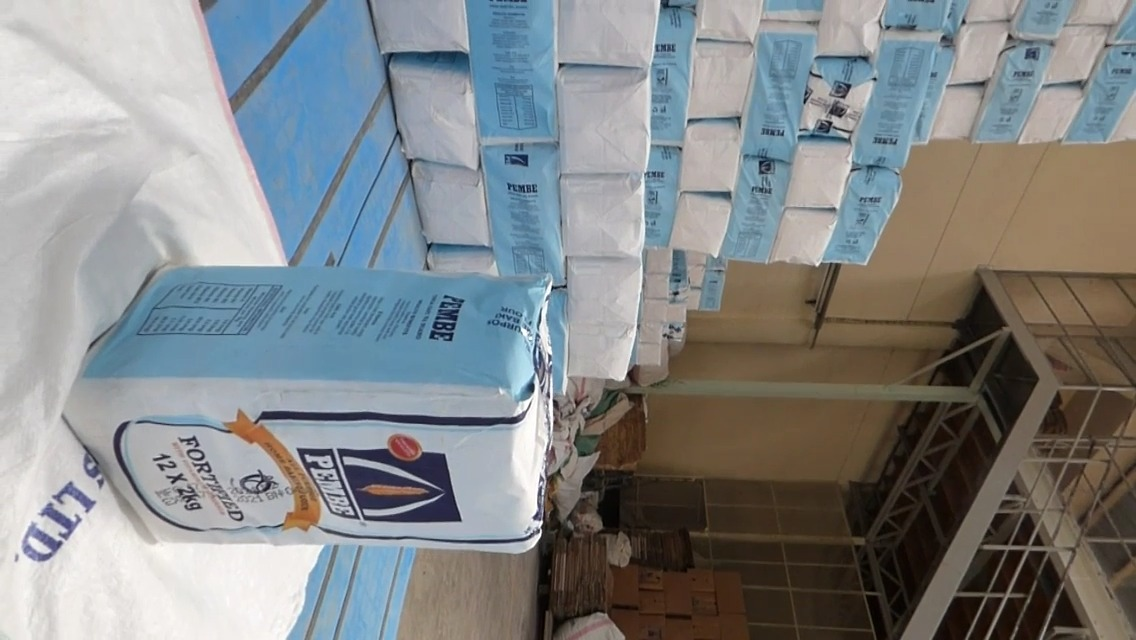wheat_flour_blue_label: (66, 266, 547, 550)
